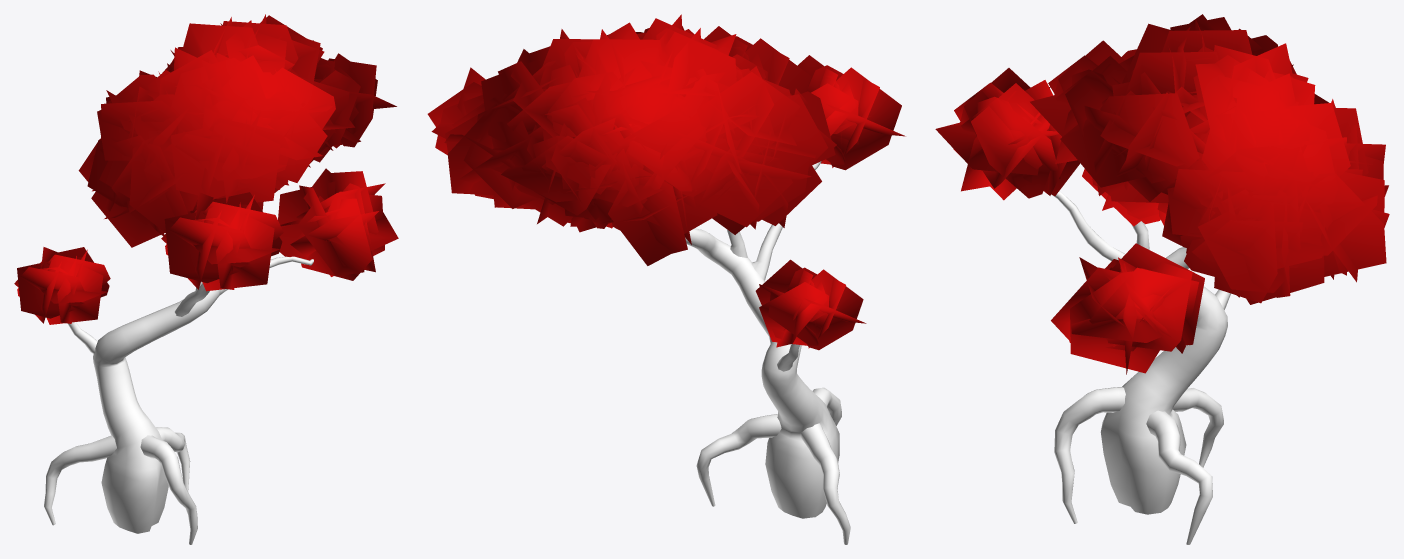
The model's file is SM_tree_02.FBX.
3 renders of one model, left to right at view 1: azimuth 30°, elevation 25°; view 2: azimuth 150°, elevation 25°; view 3: azimuth 270°, elevation 25°, orthographic. The views are drawn at different scales.
Parts seen in each view (by area): view 1: SM_tree_02_LOD0; view 2: SM_tree_02_LOD0; view 3: SM_tree_02_LOD0.
Boxes of the visible parts, left/top/right/bottom form: SM_tree_02_LOD0: left=14, top=14, right=398, bottom=544; SM_tree_02_LOD0: left=427, top=14, right=905, bottom=544; SM_tree_02_LOD0: left=935, top=14, right=1389, bottom=544.
Size of what is drawn, in the model's own units: 1229 by 1040 by 1352.
